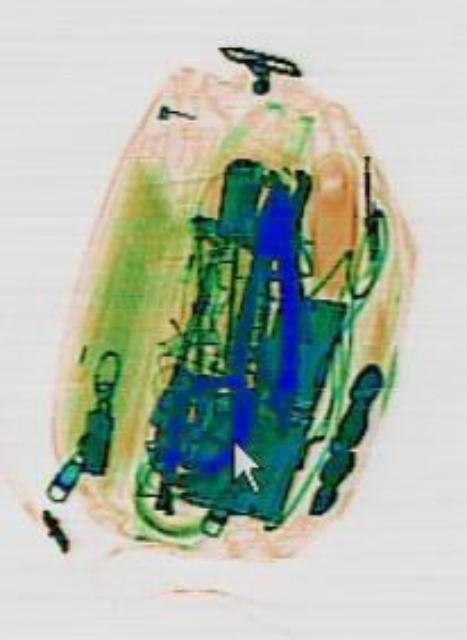Pliers: (225, 174, 310, 404)
